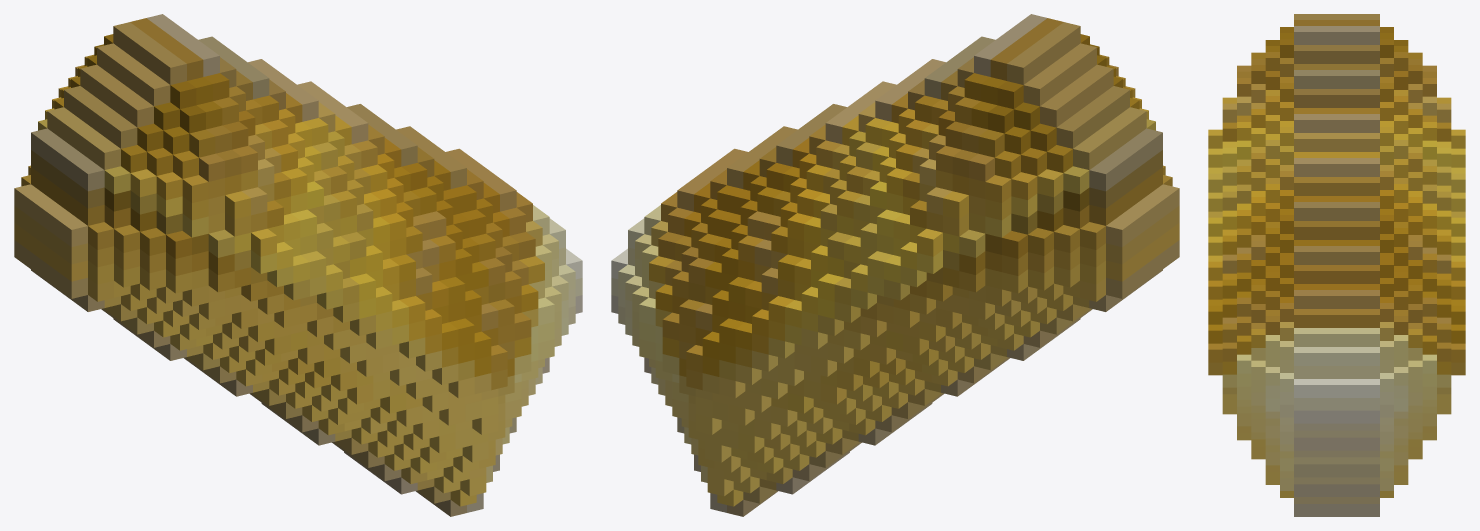
Rendered from goldbar.glb.
3 renders of one model, left to right at view 1: azimuth 30°, elevation 25°; view 2: azimuth 150°, elevation 25°; view 3: azimuth 270°, elevation 25°, orthographic. The views are drawn at different scales.
Size of the model in its own units: 0.9688 by 0.9375 by 0.5625.
